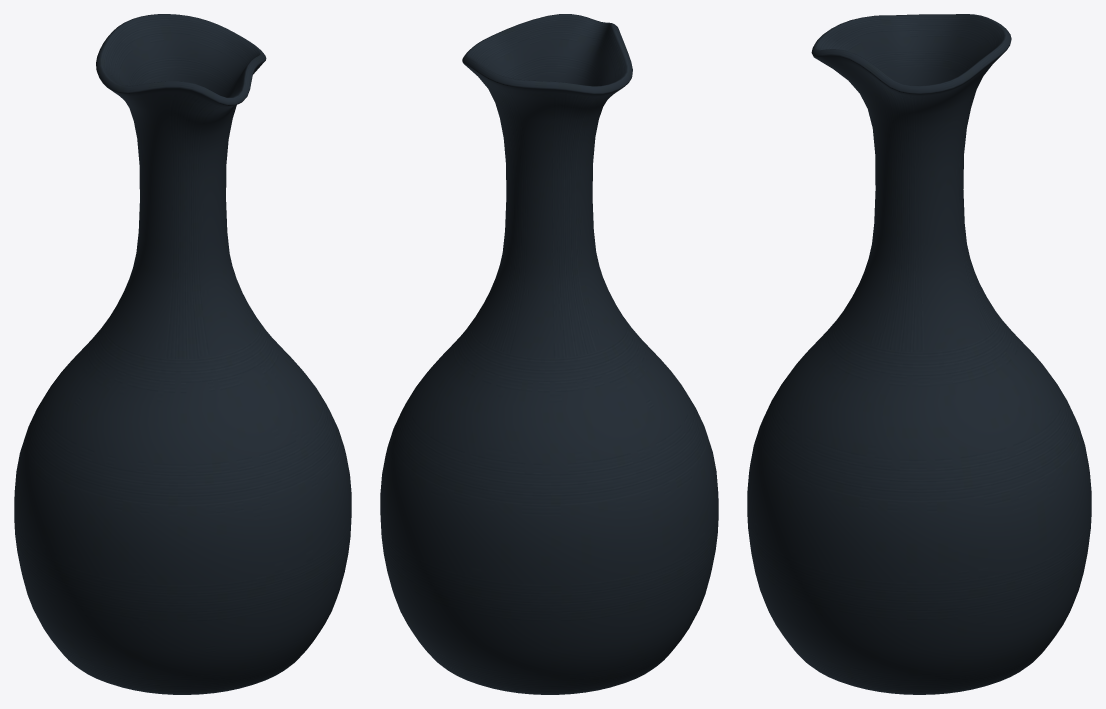
The model's file is vessel.glb.
3 renders of one model, left to right at view 1: azimuth 30°, elevation 25°; view 2: azimuth 150°, elevation 25°; view 3: azimuth 270°, elevation 25°, orthographic. The views are drawn at different scales.
Parts seen in each view (by area): view 1: ceramic_vase_01; view 2: ceramic_vase_01; view 3: ceramic_vase_01.
Part boxes in pixels (x1,y1,x2,y2): ceramic_vase_01: (14, 14, 351, 694); ceramic_vase_01: (380, 14, 718, 694); ceramic_vase_01: (747, 14, 1091, 694).
Size of the model in its own units: 0.2036 by 0.4003 by 0.2036.
Materials: 1 (1 with a texture image).
